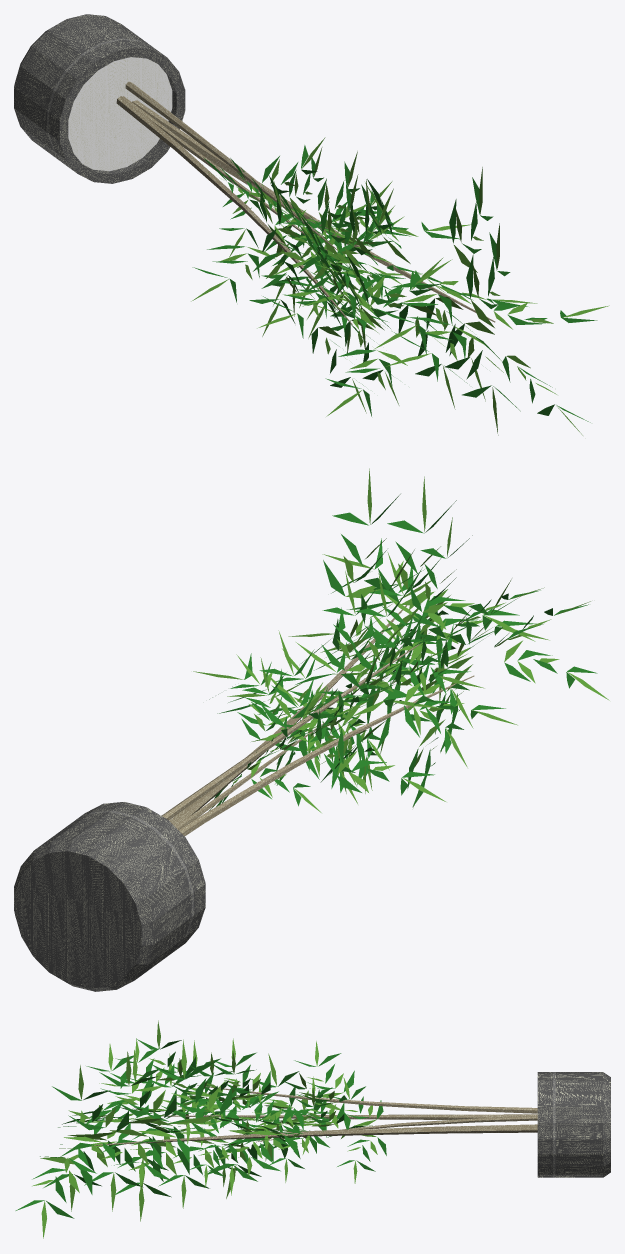
3 views of the same model, one above another, from view 1: azimuth 30°, elevation 25°; view 2: azimuth 150°, elevation 25°; view 3: azimuth 270°, elevation 25° (orthographic). The views are drawn at different scales.
Visible parts, largest first — view 1: bamboo plant in pot; view 2: bamboo plant in pot; view 3: bamboo plant in pot.
Part boxes in pixels (x1,y1,x2,y2): bamboo plant in pot: (14, 14, 609, 435); bamboo plant in pot: (14, 468, 609, 991); bamboo plant in pot: (15, 1020, 610, 1238).
Bounding box in the file's own units: 118 × 106 × 308.
